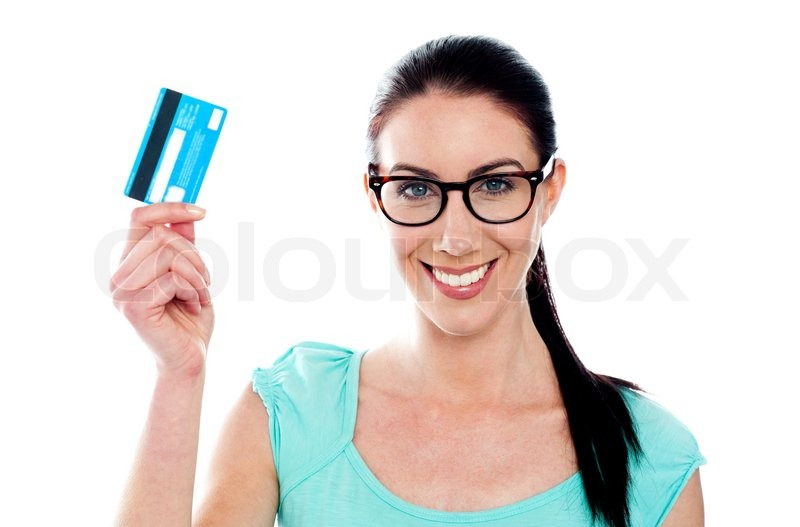tarjeta: (123, 86, 230, 209)
